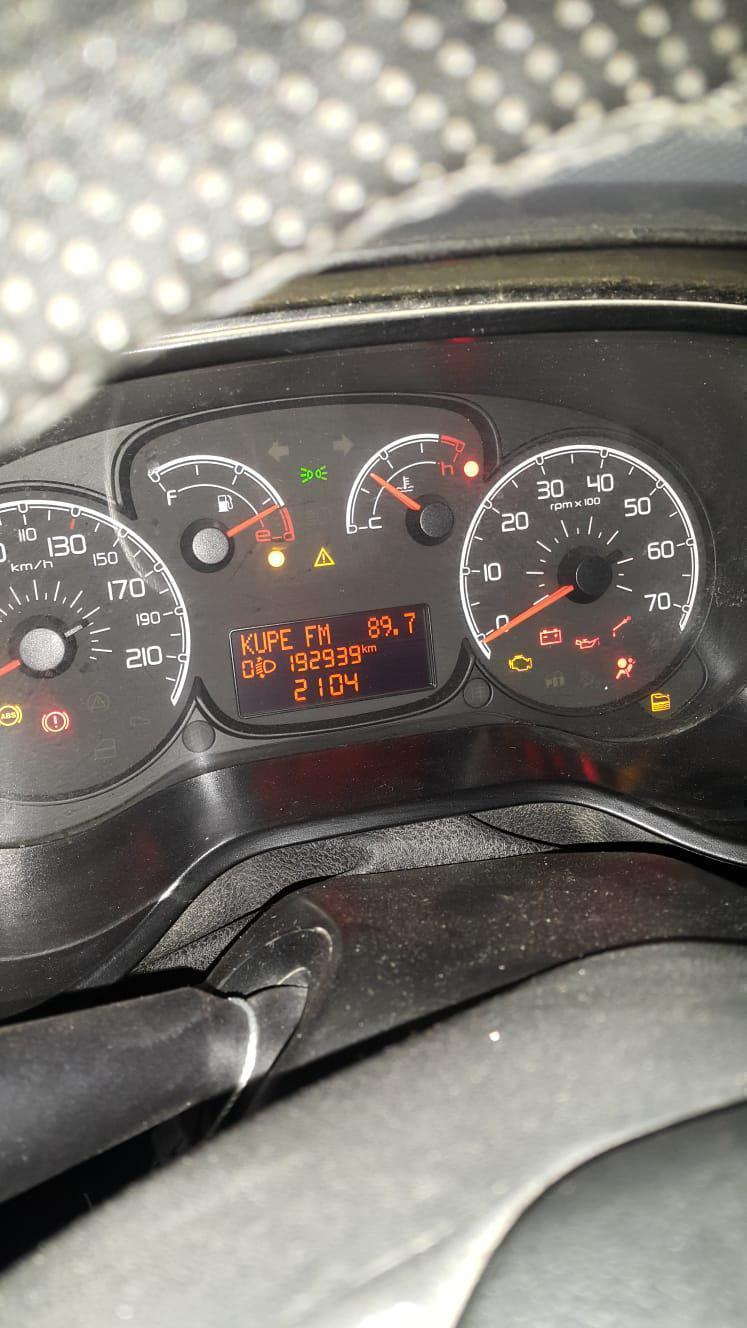,: (392, 626, 400, 637)
0: (327, 672, 344, 697), (240, 658, 255, 679)
1: (316, 675, 324, 698), (288, 653, 295, 674)
2: (292, 677, 309, 704), (309, 649, 322, 670)
3: (336, 645, 349, 667)
4: (344, 672, 359, 692)
7: (401, 610, 418, 634)
8: (366, 616, 381, 639)
9: (348, 643, 361, 666), (321, 647, 334, 668), (296, 650, 308, 671), (380, 615, 391, 637)
X: (317, 621, 332, 647), (279, 627, 294, 650), (239, 632, 254, 655), (253, 631, 267, 654), (303, 623, 316, 646), (267, 629, 278, 653), (367, 644, 377, 652), (361, 643, 368, 653)
odometer: (227, 605, 438, 717)
